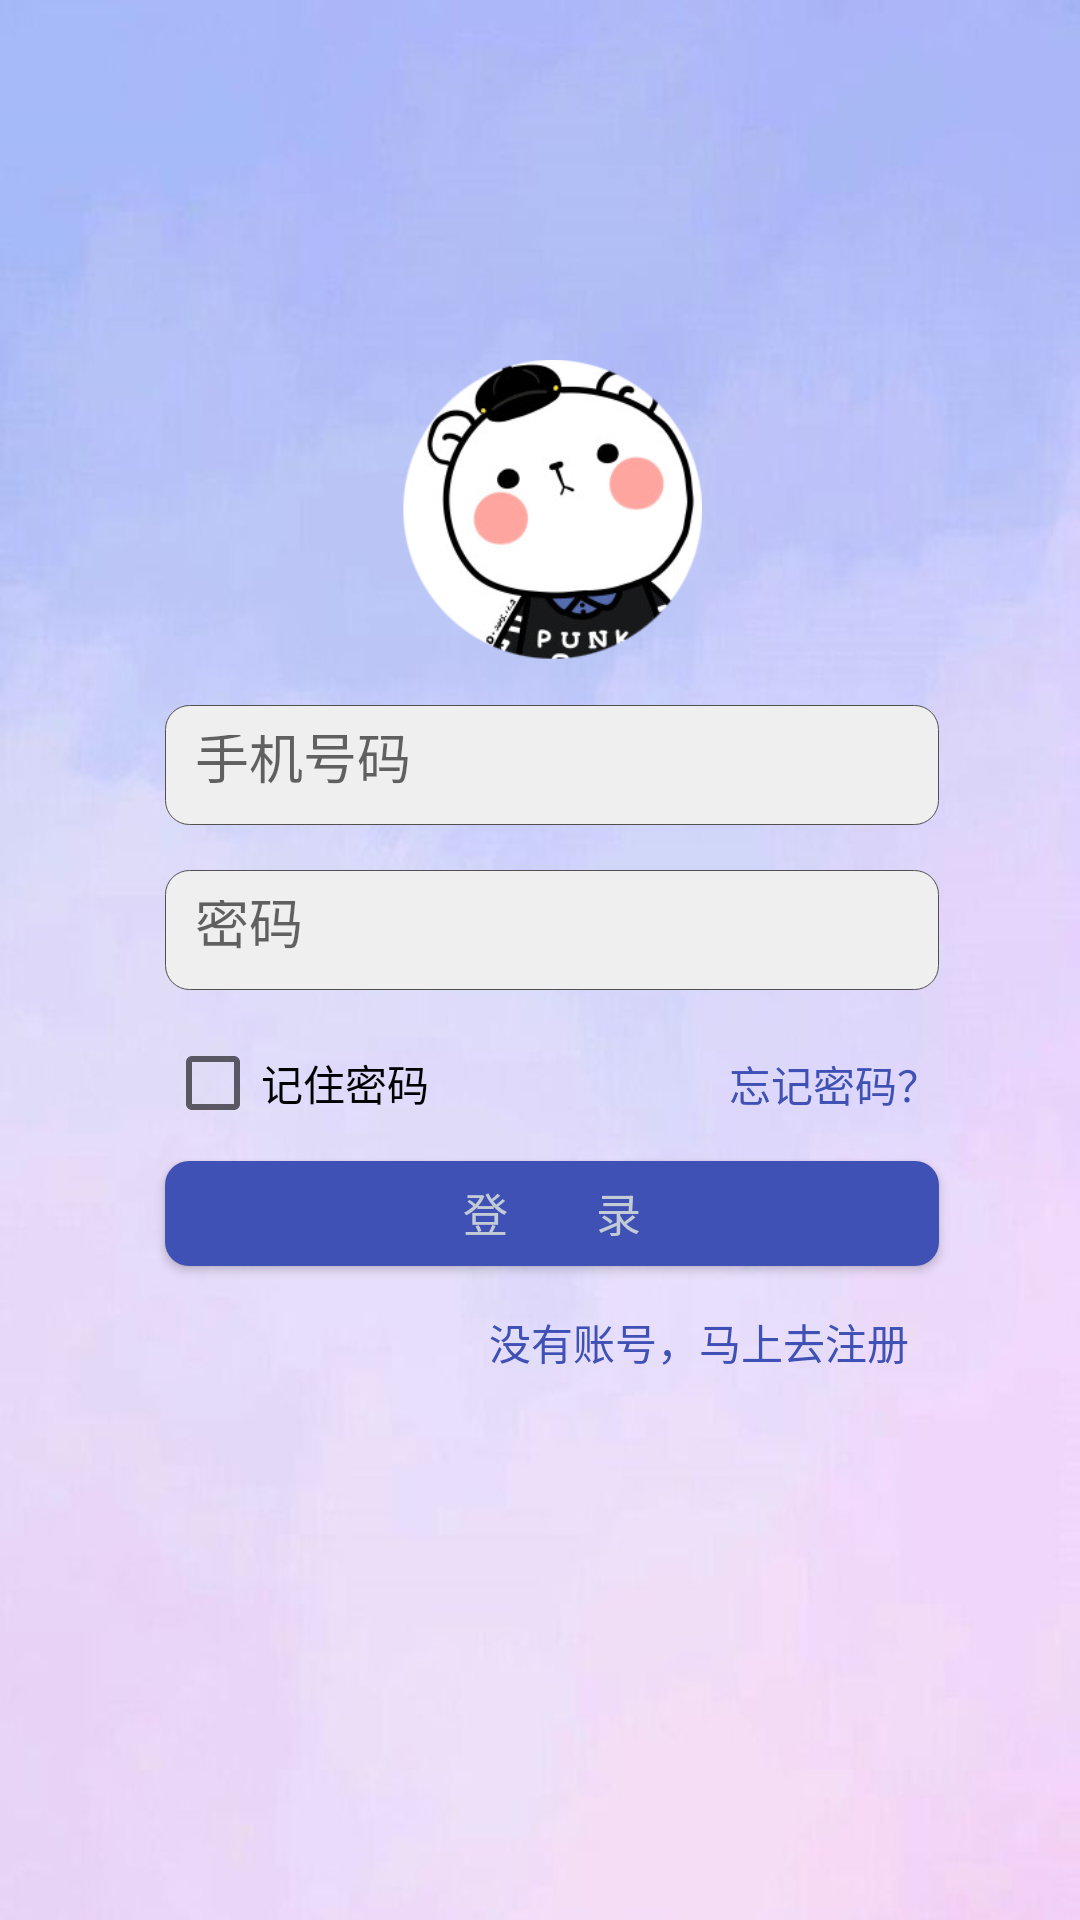

Icon click points for this 1080 x 1920 phone screenshot, format (x=x, y=y):
head: (x=552, y=509)
